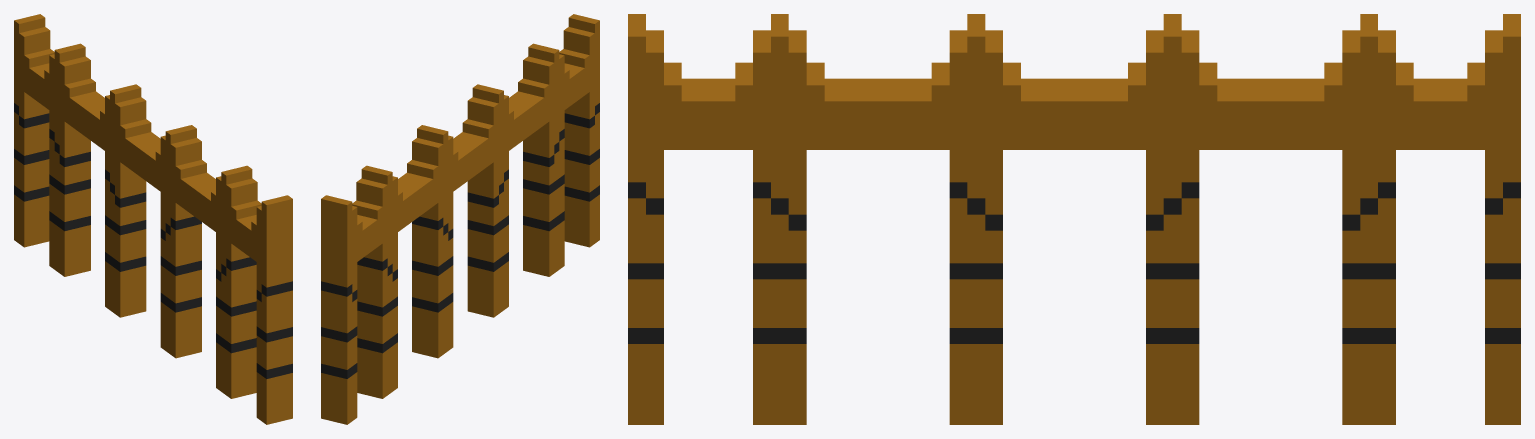
File: fence.obj
The picture shows the model from 3 angles, left to right: view 1: azimuth 30°, elevation 25°; view 2: azimuth 150°, elevation 25°; view 3: azimuth 270°, elevation 25°; orthographic projection. The views are drawn at different scales.
Size of the model in its own units: 3 by 24 by 50.
1 material, 1 textured.
